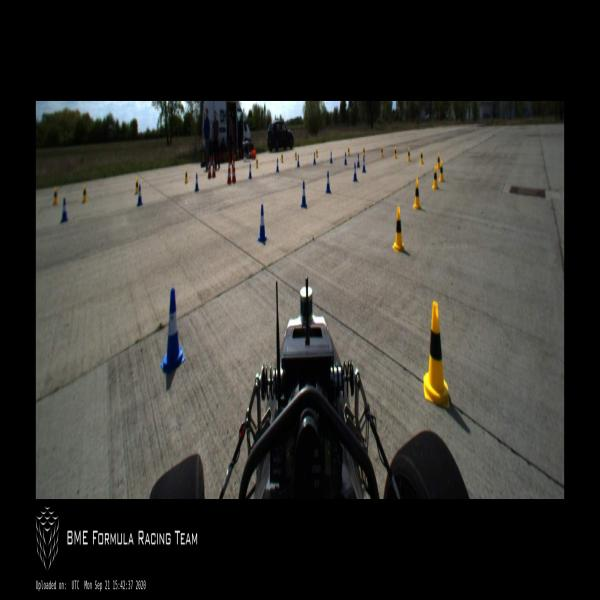blue_cone: (160, 288, 186, 375), (258, 206, 266, 241), (61, 198, 68, 224), (300, 182, 306, 208), (137, 185, 143, 206), (194, 173, 199, 192), (326, 171, 330, 194), (353, 162, 357, 182), (362, 157, 366, 173), (248, 164, 252, 179), (344, 151, 347, 166), (297, 154, 300, 169), (357, 154, 360, 168), (276, 159, 279, 173), (330, 150, 332, 163), (314, 152, 316, 165)
large_orange_cone: (228, 158, 232, 184), (232, 160, 236, 182), (212, 156, 216, 177), (208, 156, 211, 179)
yellow_cone: (423, 302, 450, 408), (393, 206, 405, 252), (412, 178, 421, 210), (432, 165, 438, 190), (52, 186, 58, 206), (439, 160, 444, 183), (82, 185, 87, 202), (436, 152, 440, 170), (134, 177, 138, 195), (184, 169, 189, 183), (420, 150, 424, 164), (407, 147, 410, 162), (347, 146, 350, 157), (381, 145, 383, 158), (256, 156, 258, 169), (394, 146, 396, 158), (281, 151, 283, 163), (295, 150, 297, 162), (363, 146, 365, 157), (316, 148, 318, 158)
